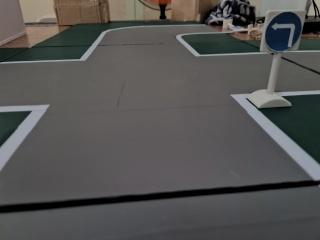left: (263, 9, 304, 55)
